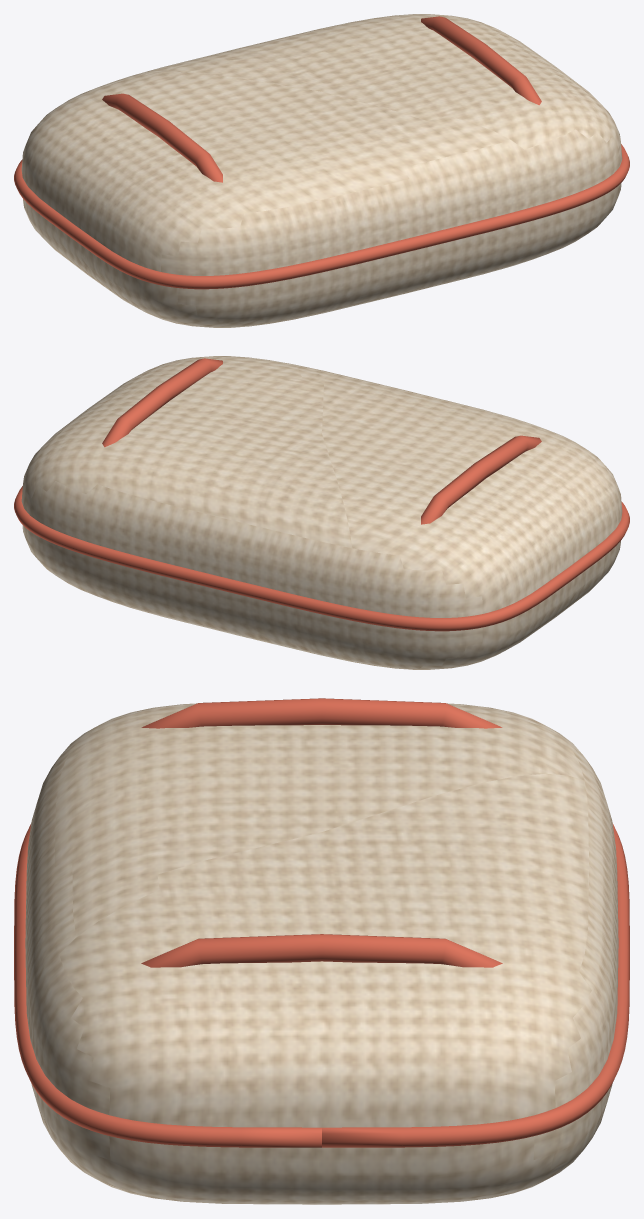
File: blocking_cushion.glb
The picture shows the model from 3 angles, top to bottom: view 1: azimuth 30°, elevation 25°; view 2: azimuth 150°, elevation 25°; view 3: azimuth 270°, elevation 25°; orthographic projection. The views are drawn at different scales.
Parts seen in each view (by area): view 1: blocking_cushion; view 2: blocking_cushion; view 3: blocking_cushion.
Boxes of the visible parts, box(x1,y1,x2,y2) form: blocking_cushion: box(14, 14, 629, 327); blocking_cushion: box(14, 356, 629, 669); blocking_cushion: box(14, 698, 629, 1204).
Size of the model in its own units: 0.738 by 0.234 by 0.508.
2 materials, 1 textured.
